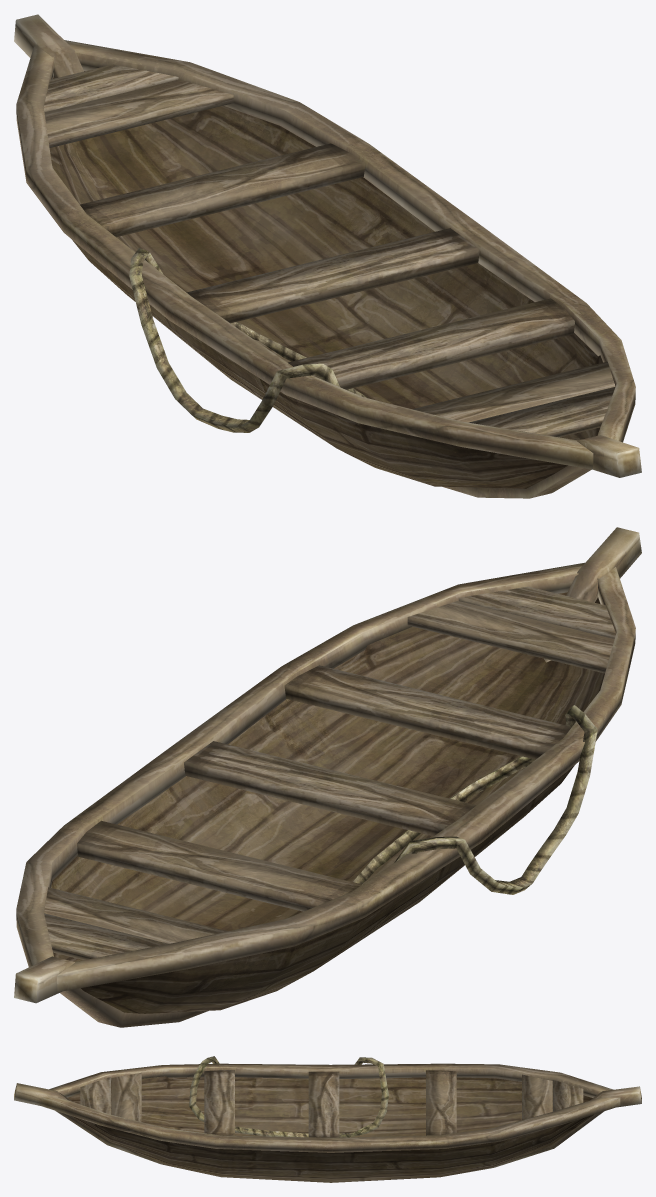
Rendered from boat.FBX.
3 renders of one model, top to bottom at view 1: azimuth 30°, elevation 25°; view 2: azimuth 150°, elevation 25°; view 3: azimuth 270°, elevation 25°, orthographic. The views are drawn at different scales.
Parts seen in each view (by area): view 1: boat; view 2: boat; view 3: boat.
Boxes of the visible parts, bbox=[...] form: boat: bbox=[14, 14, 641, 498]; boat: bbox=[14, 527, 641, 1027]; boat: bbox=[14, 1056, 641, 1182].
Bounding box in the file's own units: 2.13 × 1.12 × 6.76.
